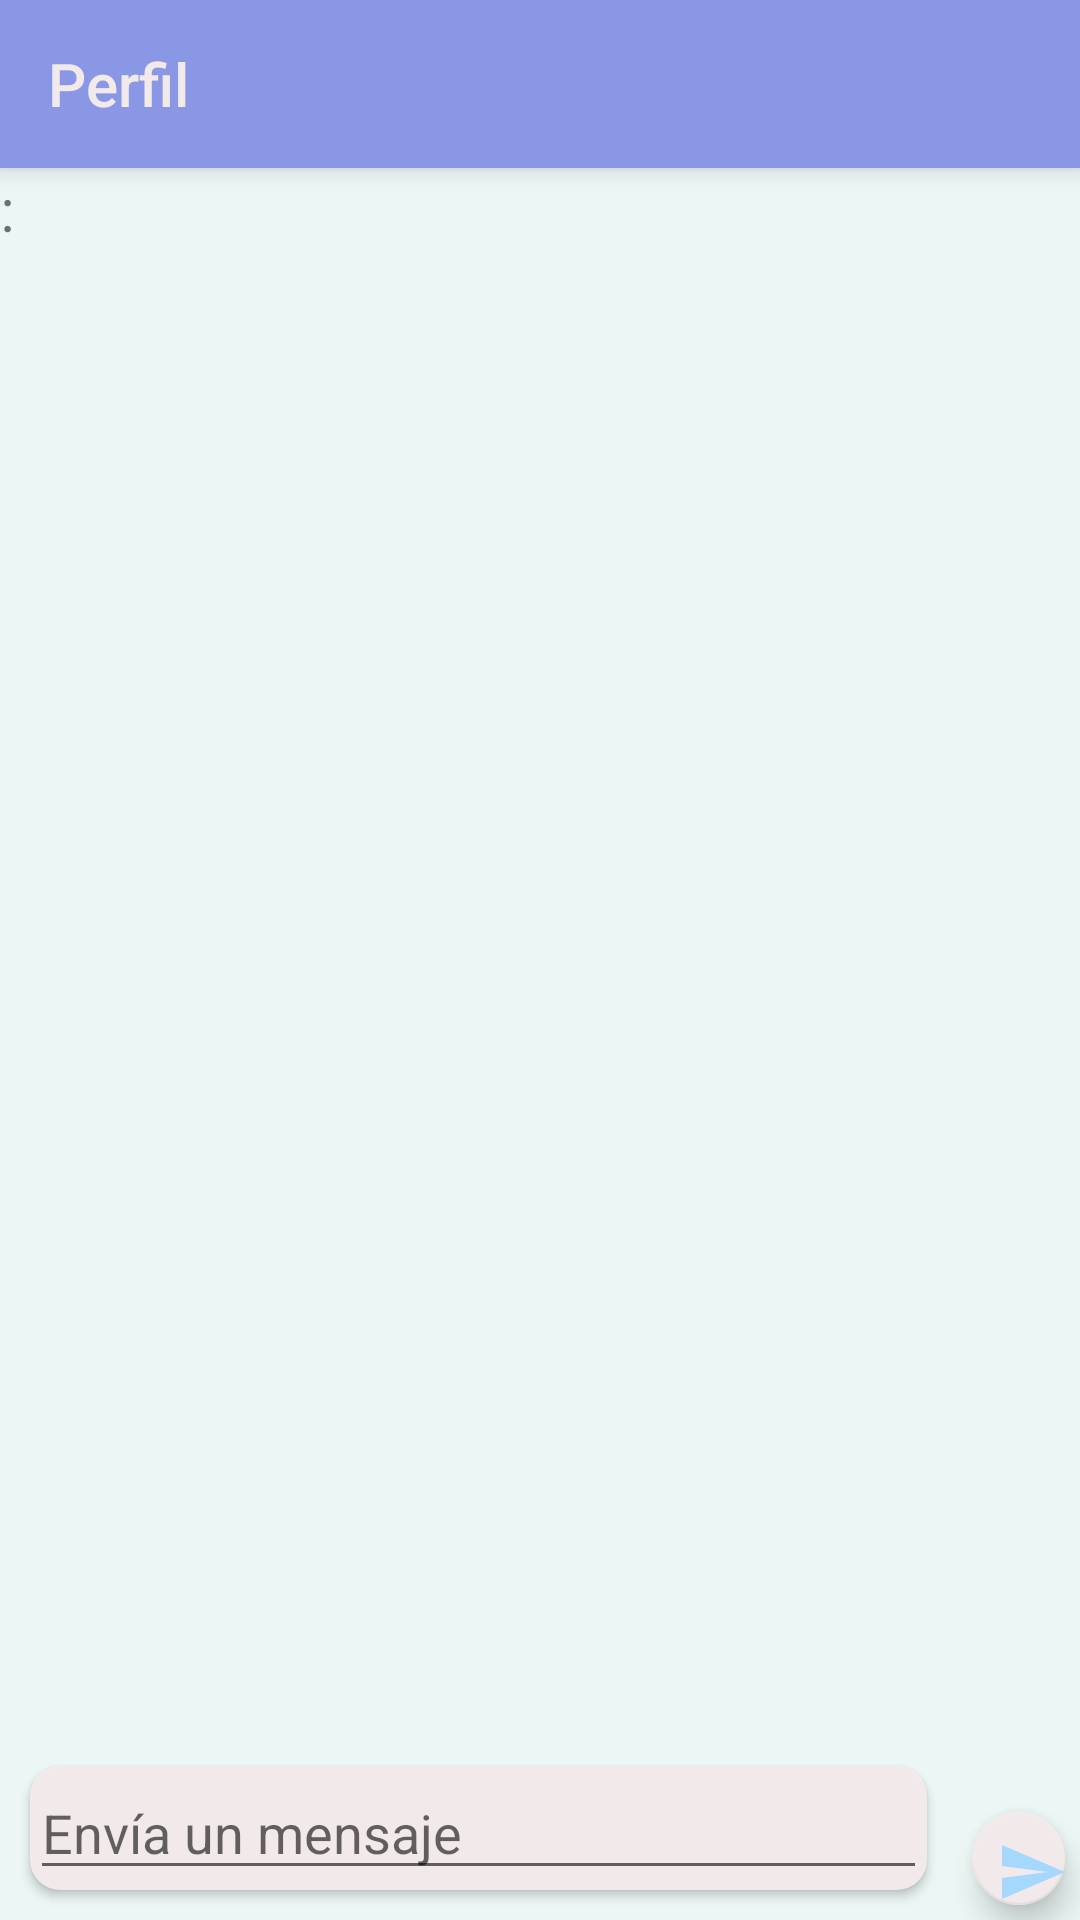

Named icons in this screenshot (1080w x 1920h) and their centers, point (x, y):
send: point (1018, 1858)
